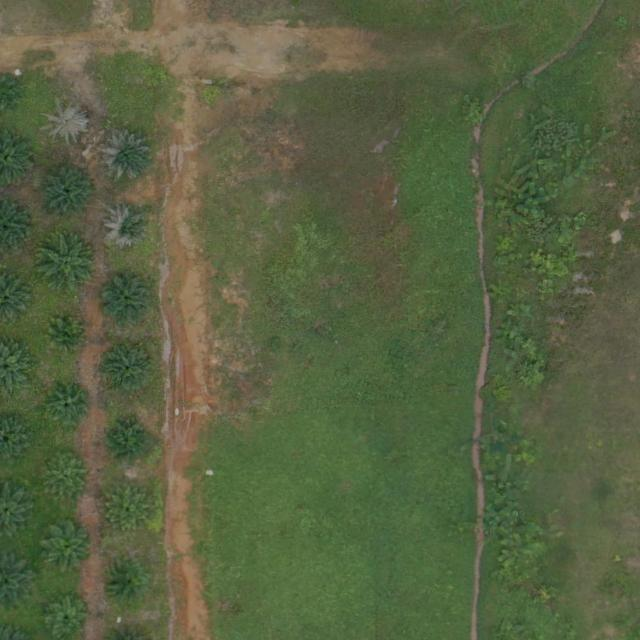Kelapa_Sawit: (37, 161, 99, 223), (37, 232, 99, 294), (98, 129, 153, 184), (99, 273, 154, 328), (99, 342, 154, 397), (37, 518, 91, 573), (41, 590, 90, 638), (42, 98, 88, 145), (105, 205, 151, 252), (46, 382, 92, 428), (102, 484, 148, 530), (106, 417, 152, 463), (41, 452, 87, 498), (0, 479, 32, 542), (0, 334, 34, 393), (0, 127, 34, 186), (0, 552, 34, 608), (0, 200, 34, 250), (0, 270, 32, 322), (105, 561, 144, 600), (47, 317, 86, 356), (0, 411, 30, 461)
